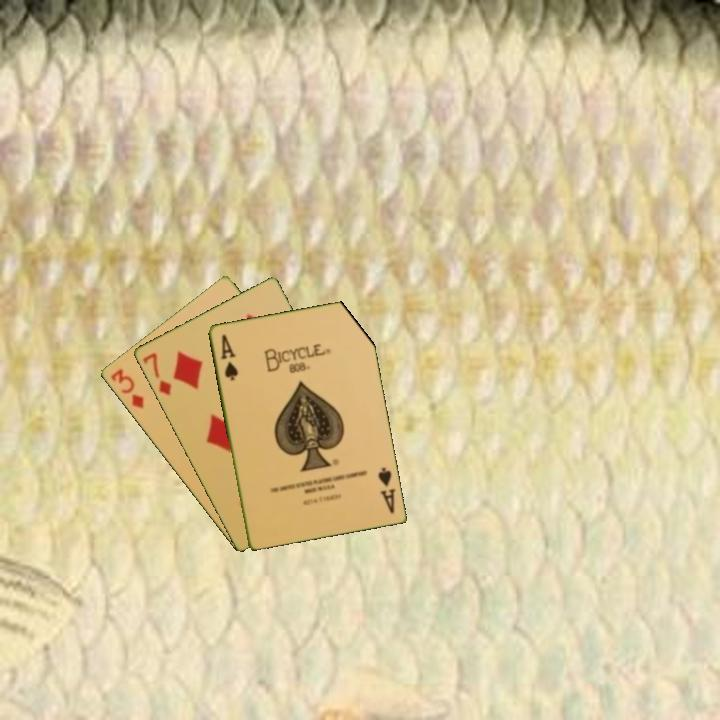3d: (107, 365, 147, 412)
7d: (139, 349, 174, 398)
As: (374, 463, 398, 516), (217, 330, 240, 383)
